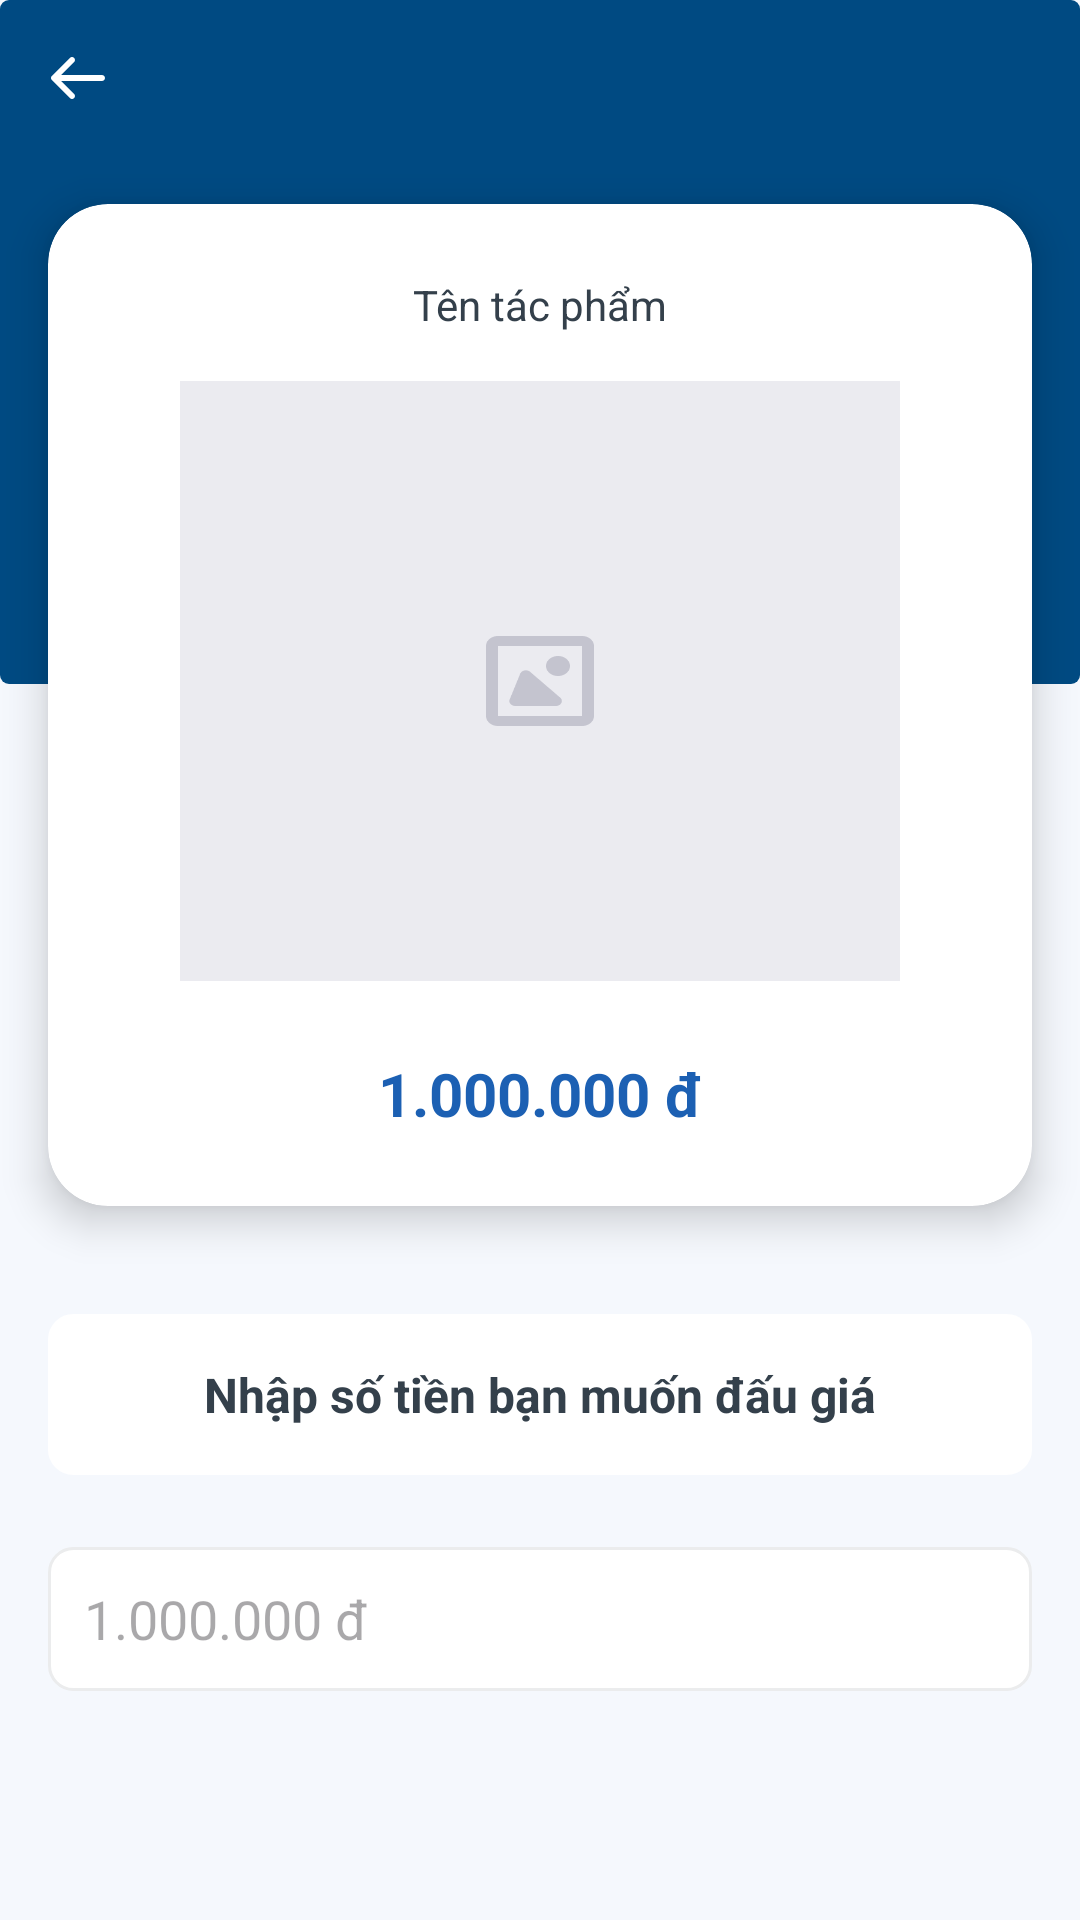

Screen size 1080×1920. Icon name, then its box in pixels as [left=x1, top=y1, right=x2, bottom=y2]:
uiv back: [left=51, top=57, right=105, bottom=99]
